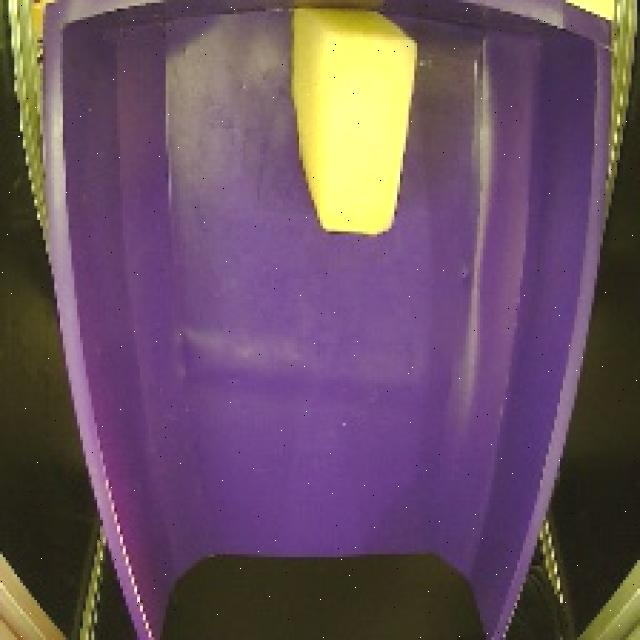potato: (280, 1, 429, 244)
